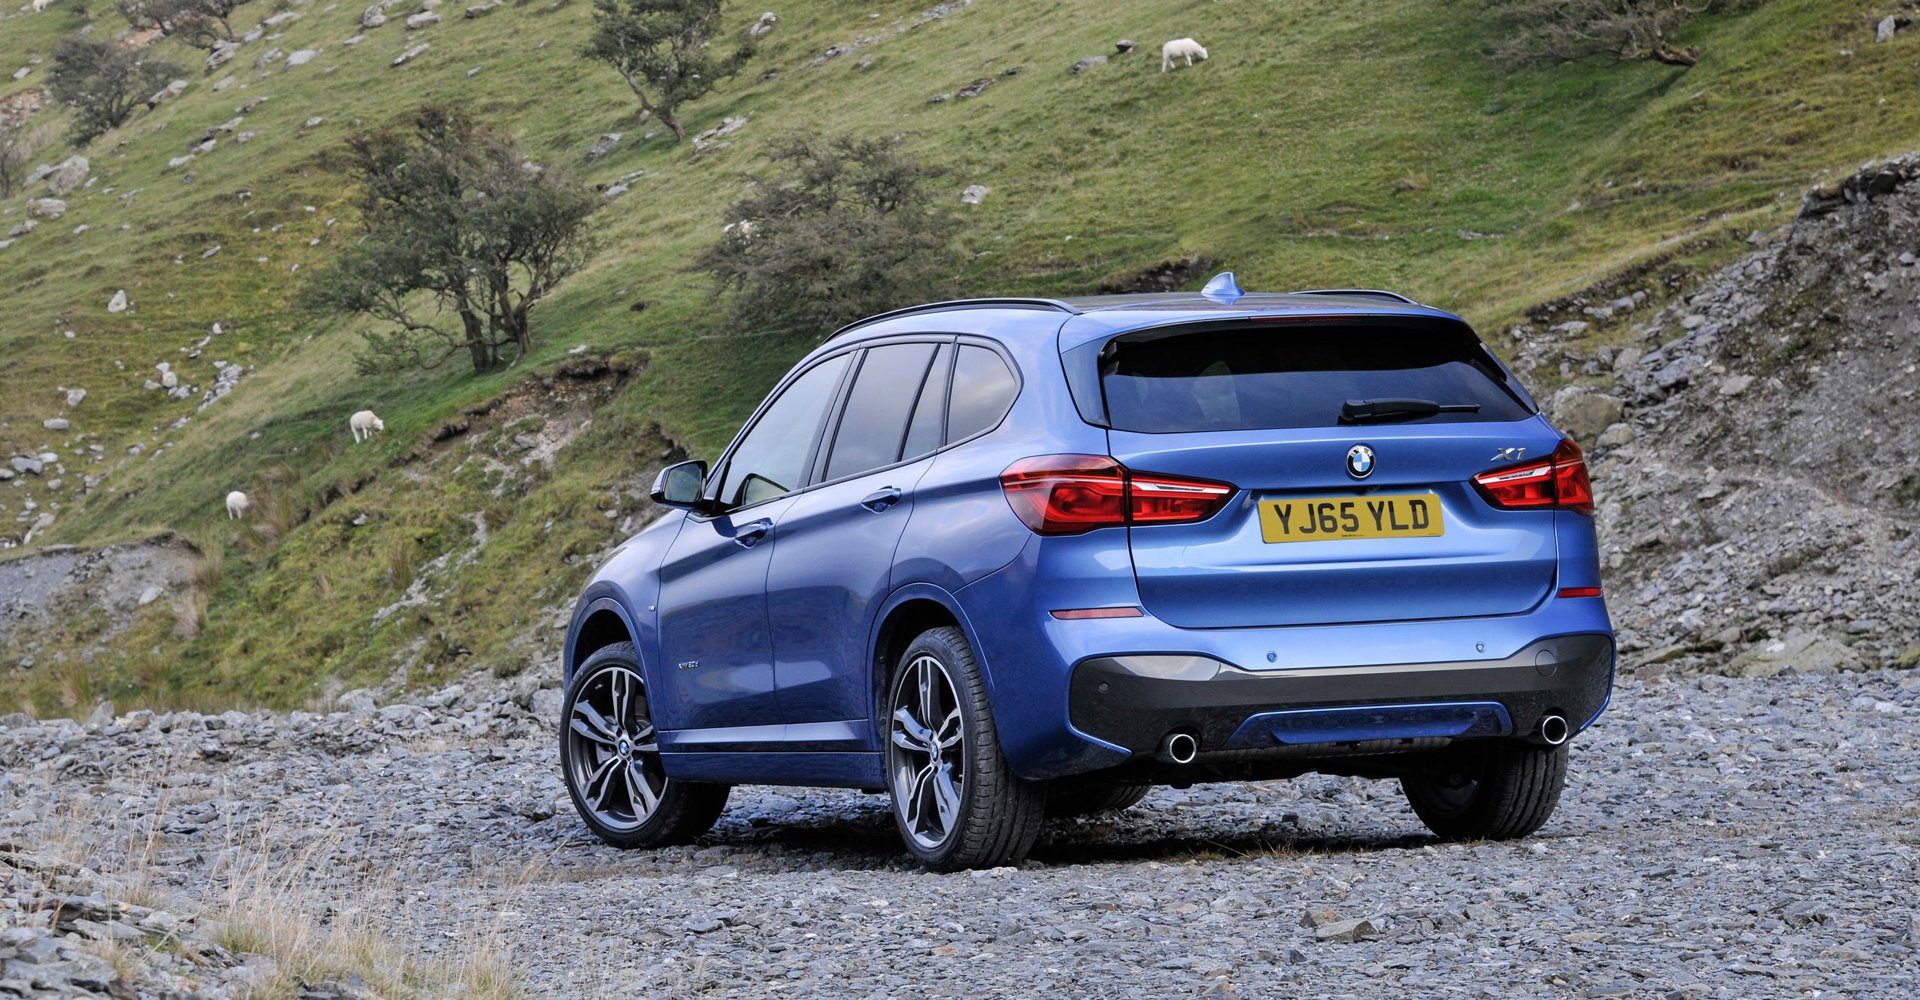car: (561, 273, 1624, 849)
